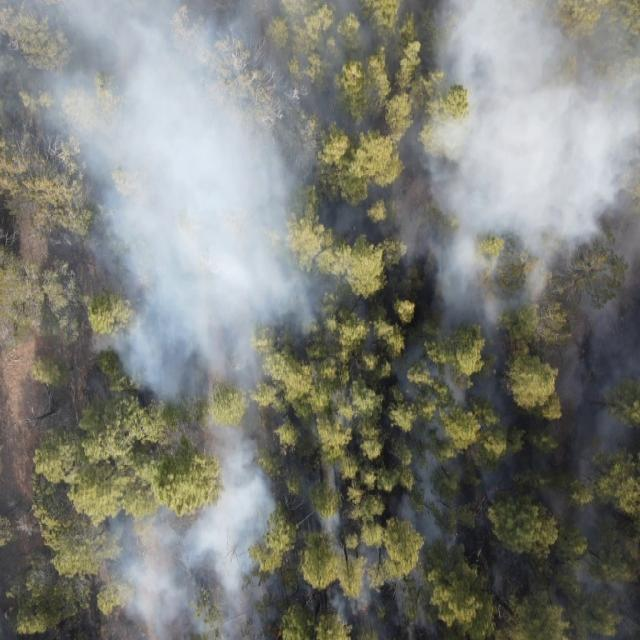fire: (359, 602, 371, 618), (272, 624, 284, 640), (306, 588, 314, 604)
smoke: (0, 0, 640, 350), (70, 500, 640, 640), (208, 414, 640, 500), (119, 348, 640, 414)
